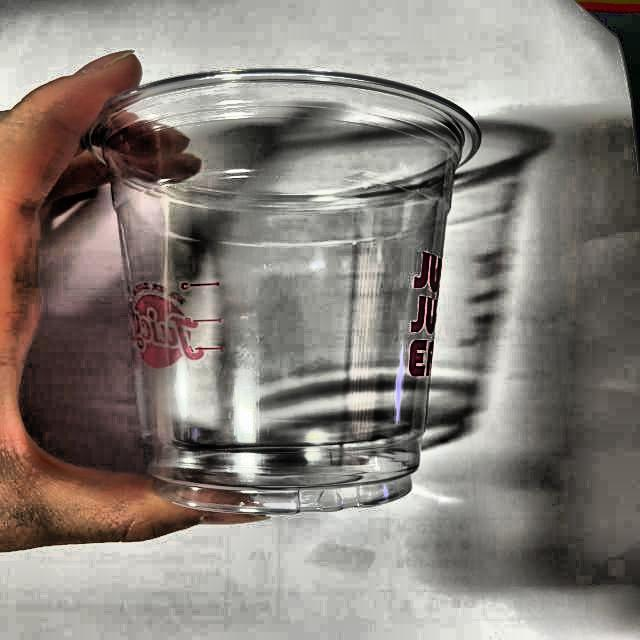plastic cup: (81, 66, 492, 516)
